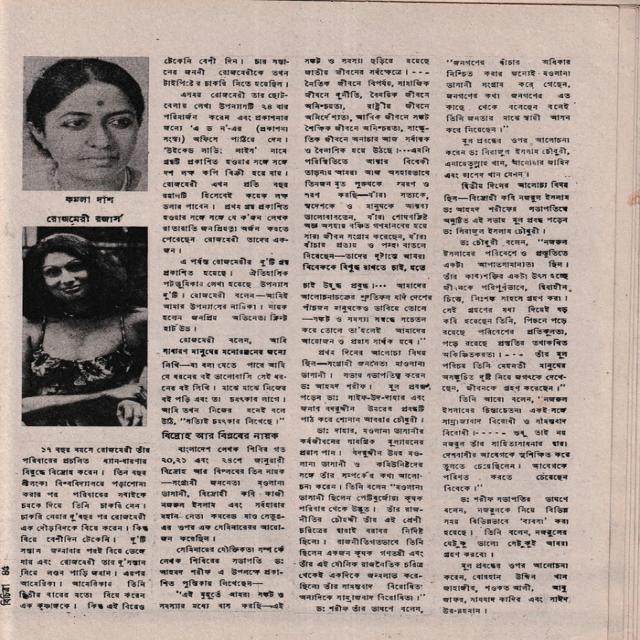caption: (44, 213, 124, 224), (63, 193, 116, 205)
image: (19, 228, 147, 428), (26, 57, 146, 189)
page number: (0, 565, 11, 576)
paragraph: (301, 78, 434, 346), (297, 426, 427, 604), (18, 441, 151, 612), (159, 90, 292, 255), (440, 237, 571, 393), (440, 393, 571, 493), (158, 444, 287, 544), (161, 335, 288, 426), (298, 348, 431, 425), (161, 256, 291, 333), (443, 57, 572, 134), (440, 494, 571, 559), (441, 181, 572, 237), (440, 561, 572, 615), (158, 543, 287, 589), (442, 136, 572, 179), (160, 55, 291, 89), (154, 590, 287, 612), (303, 55, 434, 76), (311, 603, 425, 613)
text: (0, 582, 13, 606)
title: (158, 429, 282, 442)
